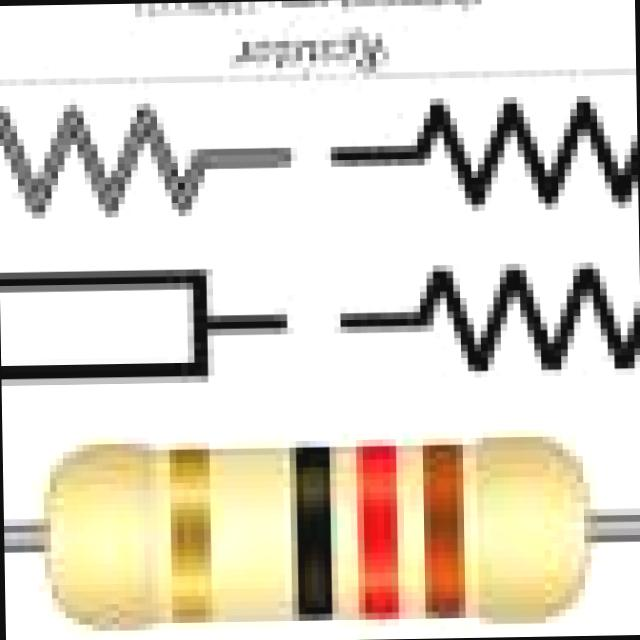Resistor: (50, 443, 590, 631)
black: (296, 446, 331, 620)
brown: (421, 444, 465, 620)
gold: (169, 448, 211, 622)
red: (356, 445, 398, 619)
